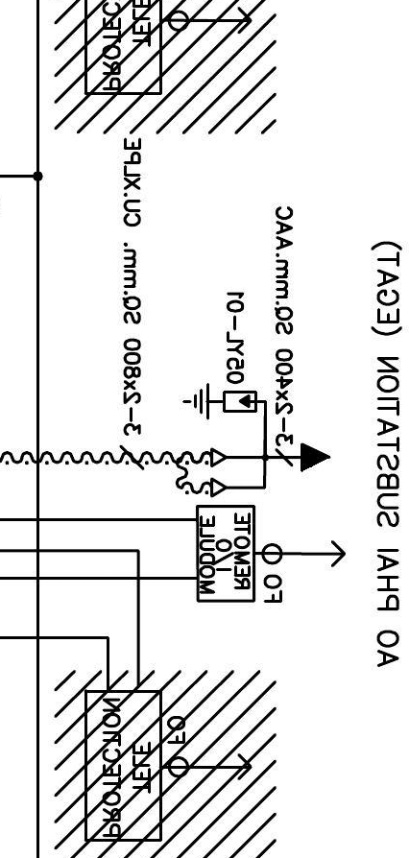115_la: (181, 382, 259, 421)
remote_io_module: (194, 503, 257, 604)
tele_protection: (81, 688, 164, 845)
terminator_double: (209, 446, 267, 499)
